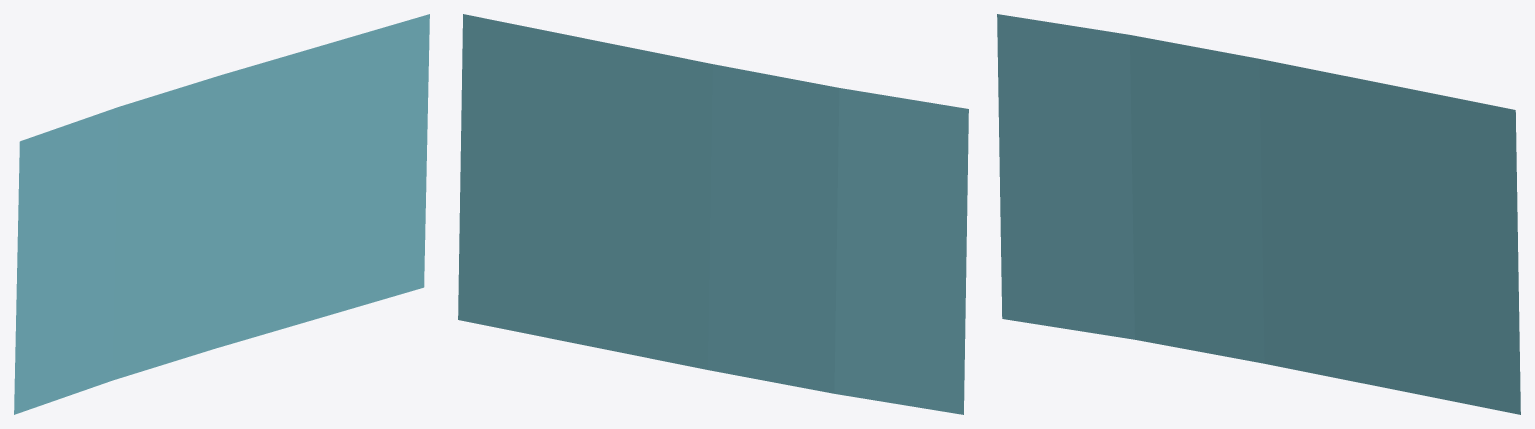
File: jobRoomWindow.fbx
3 views of the same model, side by side, from view 1: azimuth 30°, elevation 25°; view 2: azimuth 150°, elevation 25°; view 3: azimuth 330°, elevation 25° (orthographic). The views are drawn at different scales.
Parts seen in each view (by area): view 1: JobRoom_Window; view 2: JobRoom_Window; view 3: JobRoom_Window.
Boxes of the visible parts, x1,y1,x2,y2 form: JobRoom_Window: [14, 14, 429, 414]; JobRoom_Window: [458, 14, 968, 414]; JobRoom_Window: [997, 14, 1520, 414].
Size of the model in its own units: 16.44 by 9.96 by 2.12.
